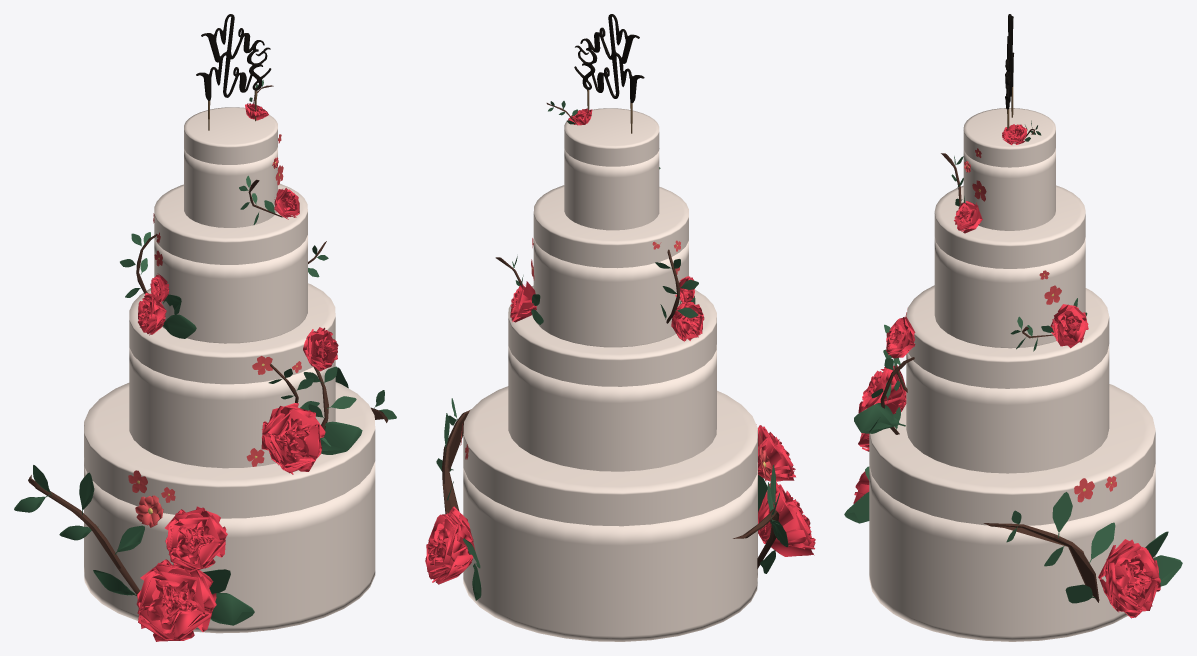
Rendered from 4-tier-white-roses-mrms.glb.
3 renders of one model, left to right at view 1: azimuth 30°, elevation 25°; view 2: azimuth 150°, elevation 25°; view 3: azimuth 270°, elevation 25°, orthographic.
Parts seen in each view (by area): view 1: 3.001, 3, 2, 1, grid.013, Plane.024, grid.016, grid.012, mrms.004, grid.015, Plane.009, Plane.022 (+7 smaller); view 2: 3.001, 3, 2, 1, grid.020, mrms.004, grid.013, Plane.008, Plane.024, grid.012, grid.017, Plane.023 (+1 smaller); view 3: 3.001, 3, 2, 1, grid.020, Plane.008, grid.016, grid.019, Plane.009, grid.015, mrms.004, grid.021 (+3 smaller).
Boxes of the visible parts, bbox=[...] form: 3.001: bbox=[84, 382, 375, 633]; 3: bbox=[129, 283, 335, 468]; 2: bbox=[154, 184, 307, 343]; 1: bbox=[184, 107, 277, 227]; grid.013: bbox=[136, 559, 216, 641]; Plane.024: bbox=[14, 465, 144, 595]; grid.016: bbox=[261, 403, 325, 474]; grid.012: bbox=[165, 506, 227, 572]; mrms.004: bbox=[196, 14, 271, 130]; grid.015: bbox=[303, 327, 338, 371]; Plane.009: bbox=[320, 421, 362, 454]; Plane.022: bbox=[210, 593, 254, 625]; 3.001: bbox=[463, 386, 757, 641]; 3: bbox=[508, 285, 716, 471]; 2: bbox=[533, 185, 688, 347]; 1: bbox=[564, 108, 659, 230]; grid.020: bbox=[425, 506, 475, 584]; mrms.004: bbox=[574, 14, 644, 133]; grid.013: bbox=[758, 482, 815, 556]; Plane.008: bbox=[436, 398, 470, 514]; Plane.024: bbox=[733, 464, 788, 573]; grid.012: bbox=[756, 424, 795, 481]; grid.017: bbox=[671, 302, 704, 341]; Plane.023: bbox=[655, 249, 698, 323]; 3.001: bbox=[869, 384, 1155, 641]; 3: bbox=[906, 285, 1109, 473]; 2: bbox=[934, 185, 1085, 348]; 1: bbox=[963, 108, 1055, 230]; grid.020: bbox=[1098, 539, 1160, 618]; Plane.008: bbox=[983, 492, 1115, 603]; grid.016: bbox=[858, 365, 906, 414]; grid.019: bbox=[1050, 304, 1088, 348]; Plane.009: bbox=[854, 403, 905, 433]; grid.015: bbox=[886, 317, 915, 358]; mrms.004: bbox=[1005, 14, 1014, 128]; grid.021: bbox=[954, 201, 982, 233].
Size of the model in its own units: 6.25 by 9.28 by 5.05.
